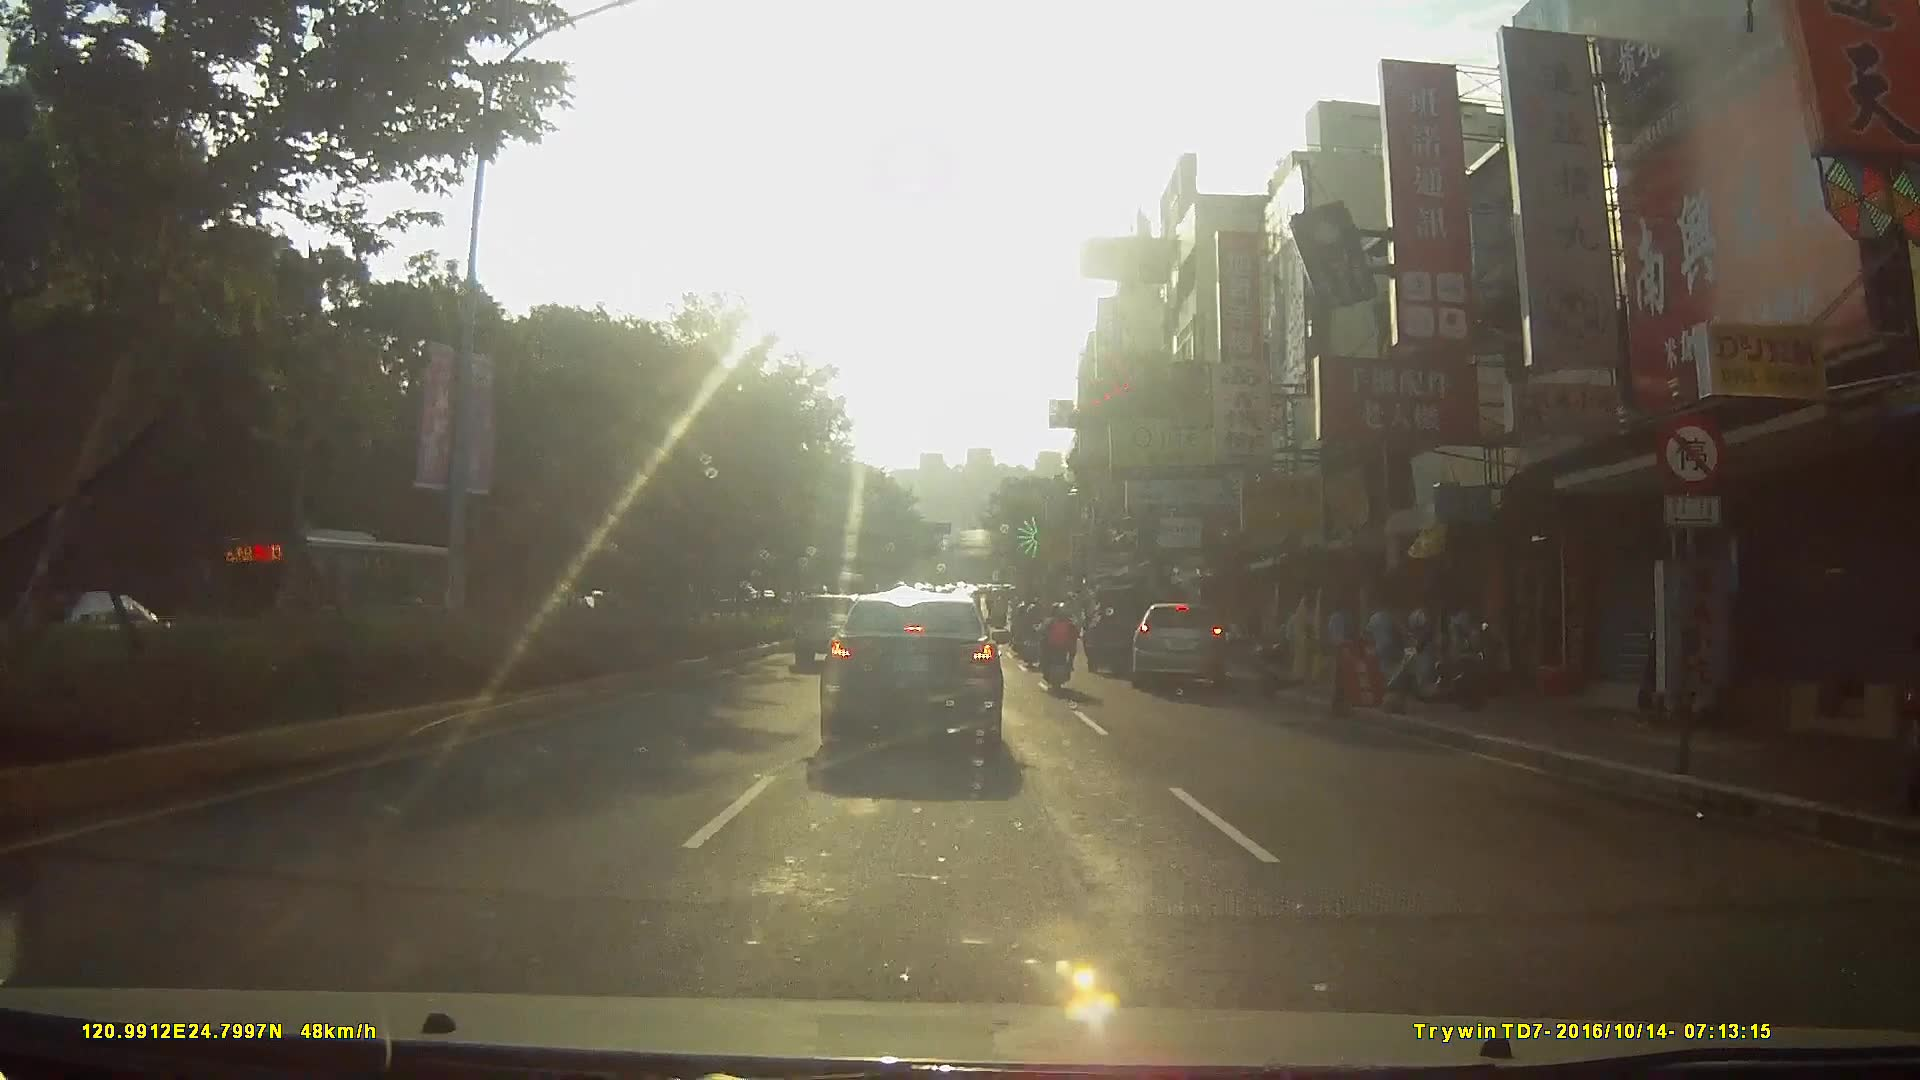pedestrian: (1368, 597, 1408, 690), (1409, 595, 1429, 666)
rider: (1040, 598, 1085, 696), (1017, 602, 1043, 669)
vehicle: (820, 589, 1030, 766), (213, 524, 459, 665), (1136, 598, 1240, 695), (1078, 577, 1172, 678)
